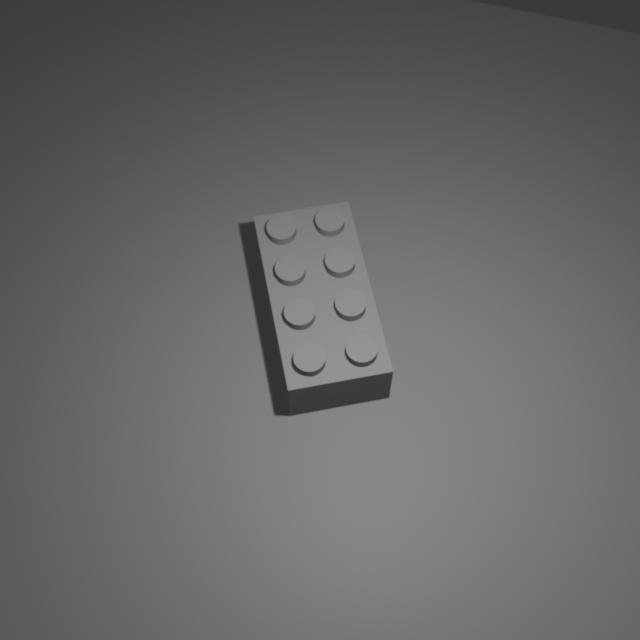lego_2x4: (253, 196, 394, 416)
